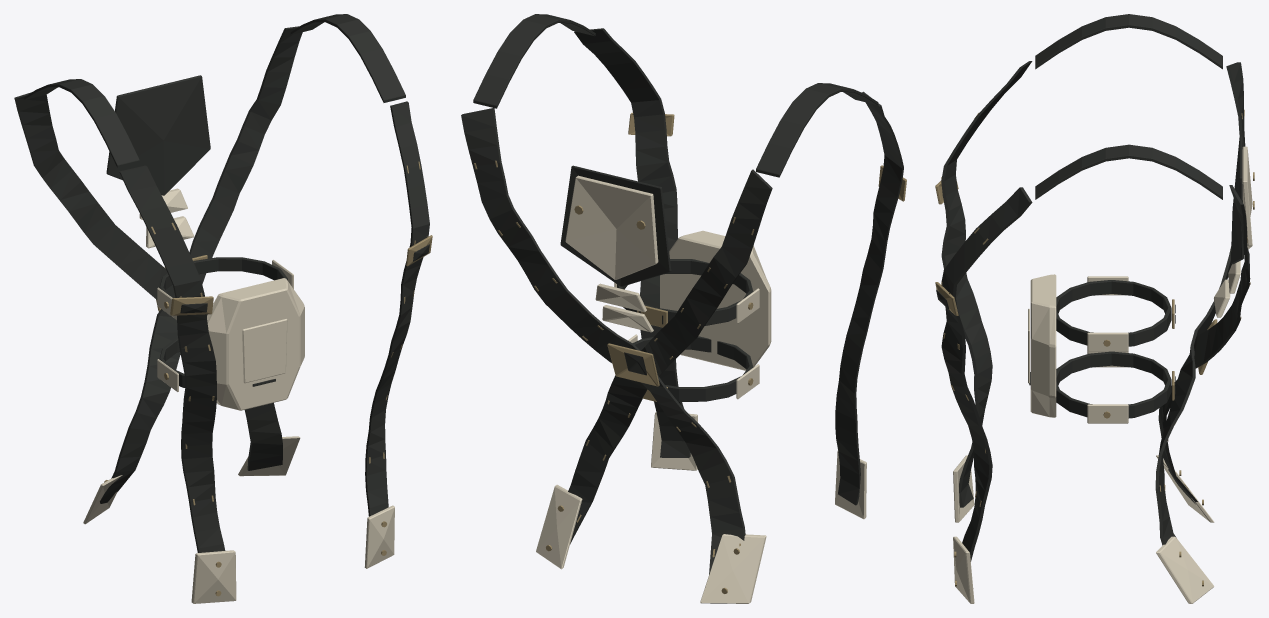
Rendered from field-harness.glb.
3 renders of one model, left to right at view 1: azimuth 30°, elevation 25°; view 2: azimuth 150°, elevation 25°; view 3: azimuth 270°, elevation 25°, orthographic. The views are drawn at different scales.
Visible parts, largest first — view 1: torso_harness, knee_pad; view 2: torso_harness, knee_pad; view 3: torso_harness, knee_pad.
Boxes of the visible parts, x1,y1,x2,y2 form: torso_harness: (14, 14, 432, 603); knee_pad: (157, 255, 304, 410); torso_harness: (461, 14, 906, 603); knee_pad: (614, 230, 771, 401); torso_harness: (935, 14, 1254, 603); knee_pad: (1028, 274, 1175, 423).
Size of the model in its own units: 1.79 by 2.75 by 1.7.
